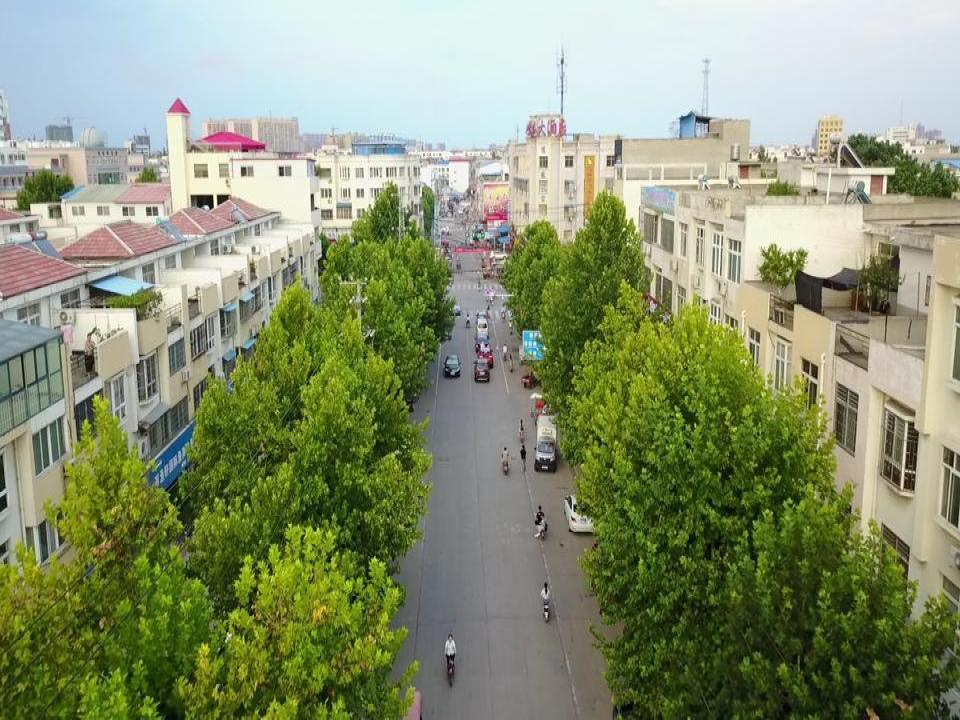car: (562, 492, 598, 532), (473, 357, 489, 382), (444, 355, 461, 377), (477, 346, 494, 366), (445, 298, 461, 314), (474, 336, 489, 352), (475, 311, 488, 325)
truck: (533, 415, 558, 472)
van: (475, 318, 488, 338)
